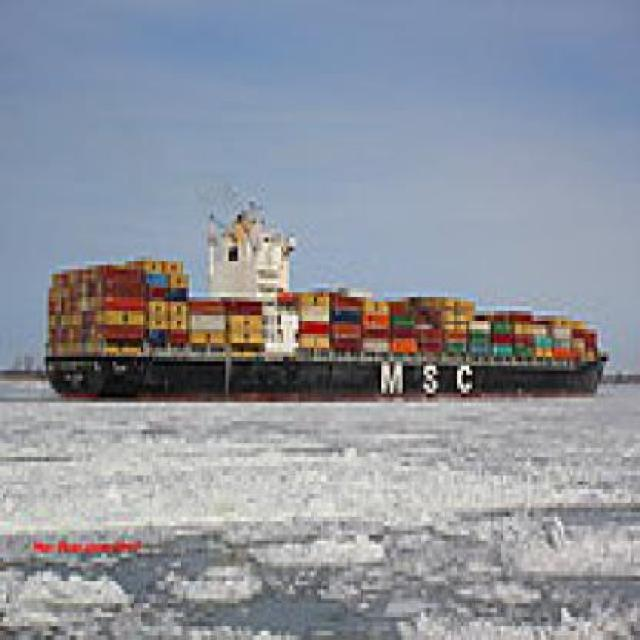container: (31, 156, 614, 417)
